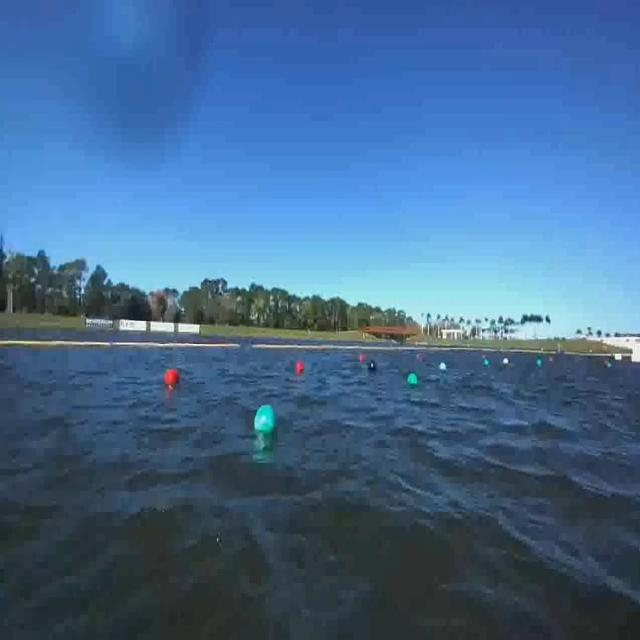black-buoy: (363, 357, 381, 381)
green-buoy: (256, 405, 278, 437), (409, 374, 419, 386)
red-buoy: (164, 368, 178, 384), (295, 360, 304, 375)
